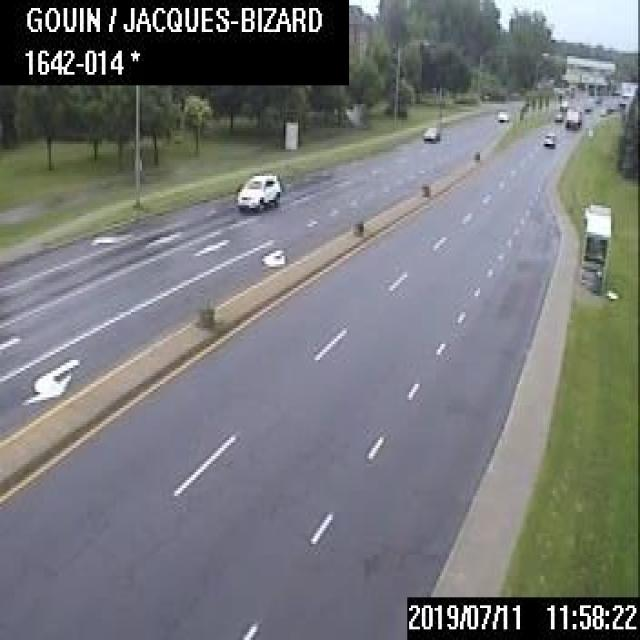vehicle: (236, 172, 279, 210), (563, 107, 580, 127), (420, 125, 436, 142), (540, 131, 554, 144), (497, 108, 508, 120), (552, 110, 562, 120), (583, 104, 591, 110)
